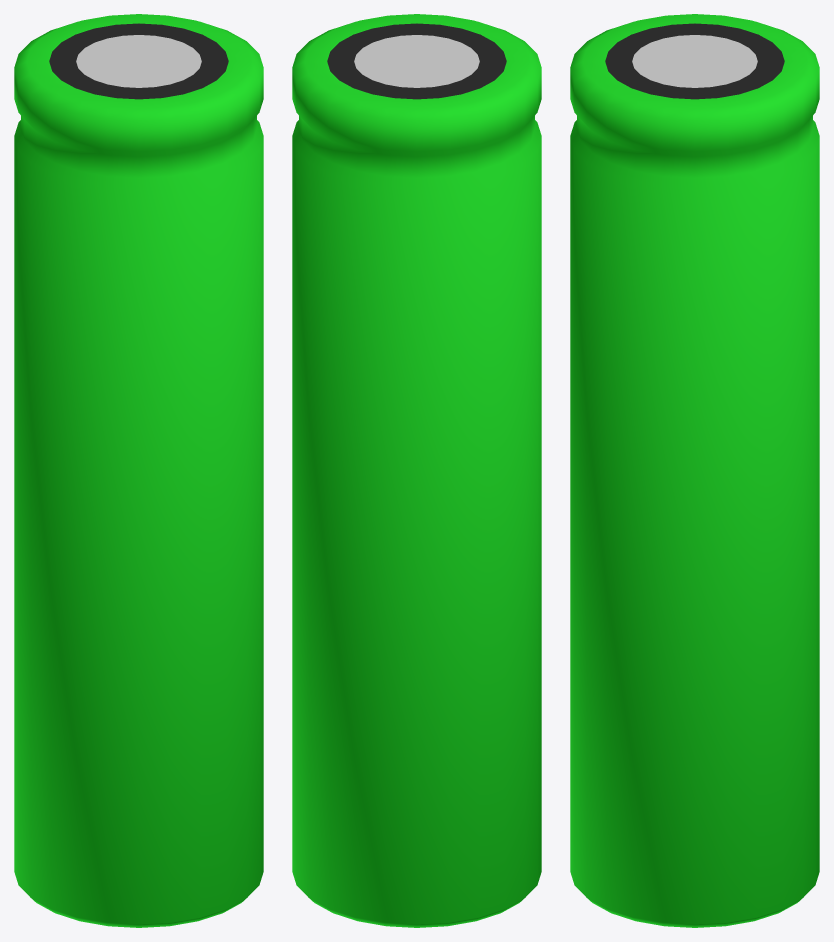
File: rechargeable_lithium_ion_battery_-_18650.glb
3 views of the same model, side by side, from view 1: azimuth 30°, elevation 25°; view 2: azimuth 150°, elevation 25°; view 3: azimuth 270°, elevation 25° (orthographic).
Visible parts, largest first — view 1: Battery; view 2: Battery; view 3: Battery.
Part boxes in pixels (x1=…): Battery: x1=14, y1=14, x2=263, y2=927; Battery: x1=292, y1=14, x2=541, y2=927; Battery: x1=570, y1=14, x2=819, y2=927.
Size of the model in its own units: 1.8 by 6.5 by 1.8.
